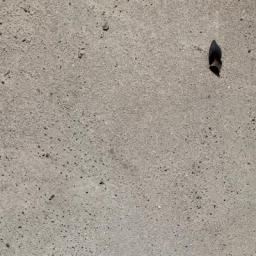FOD: (204, 39, 227, 81)
